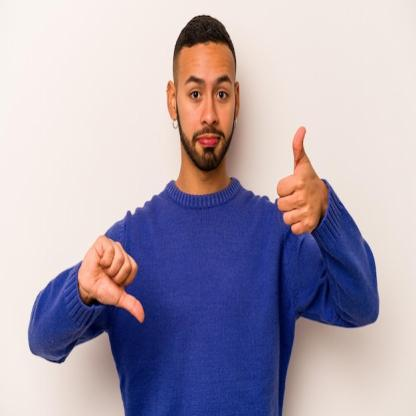thumb_down: (78, 233, 147, 326)
thumb_up: (273, 122, 326, 236)
